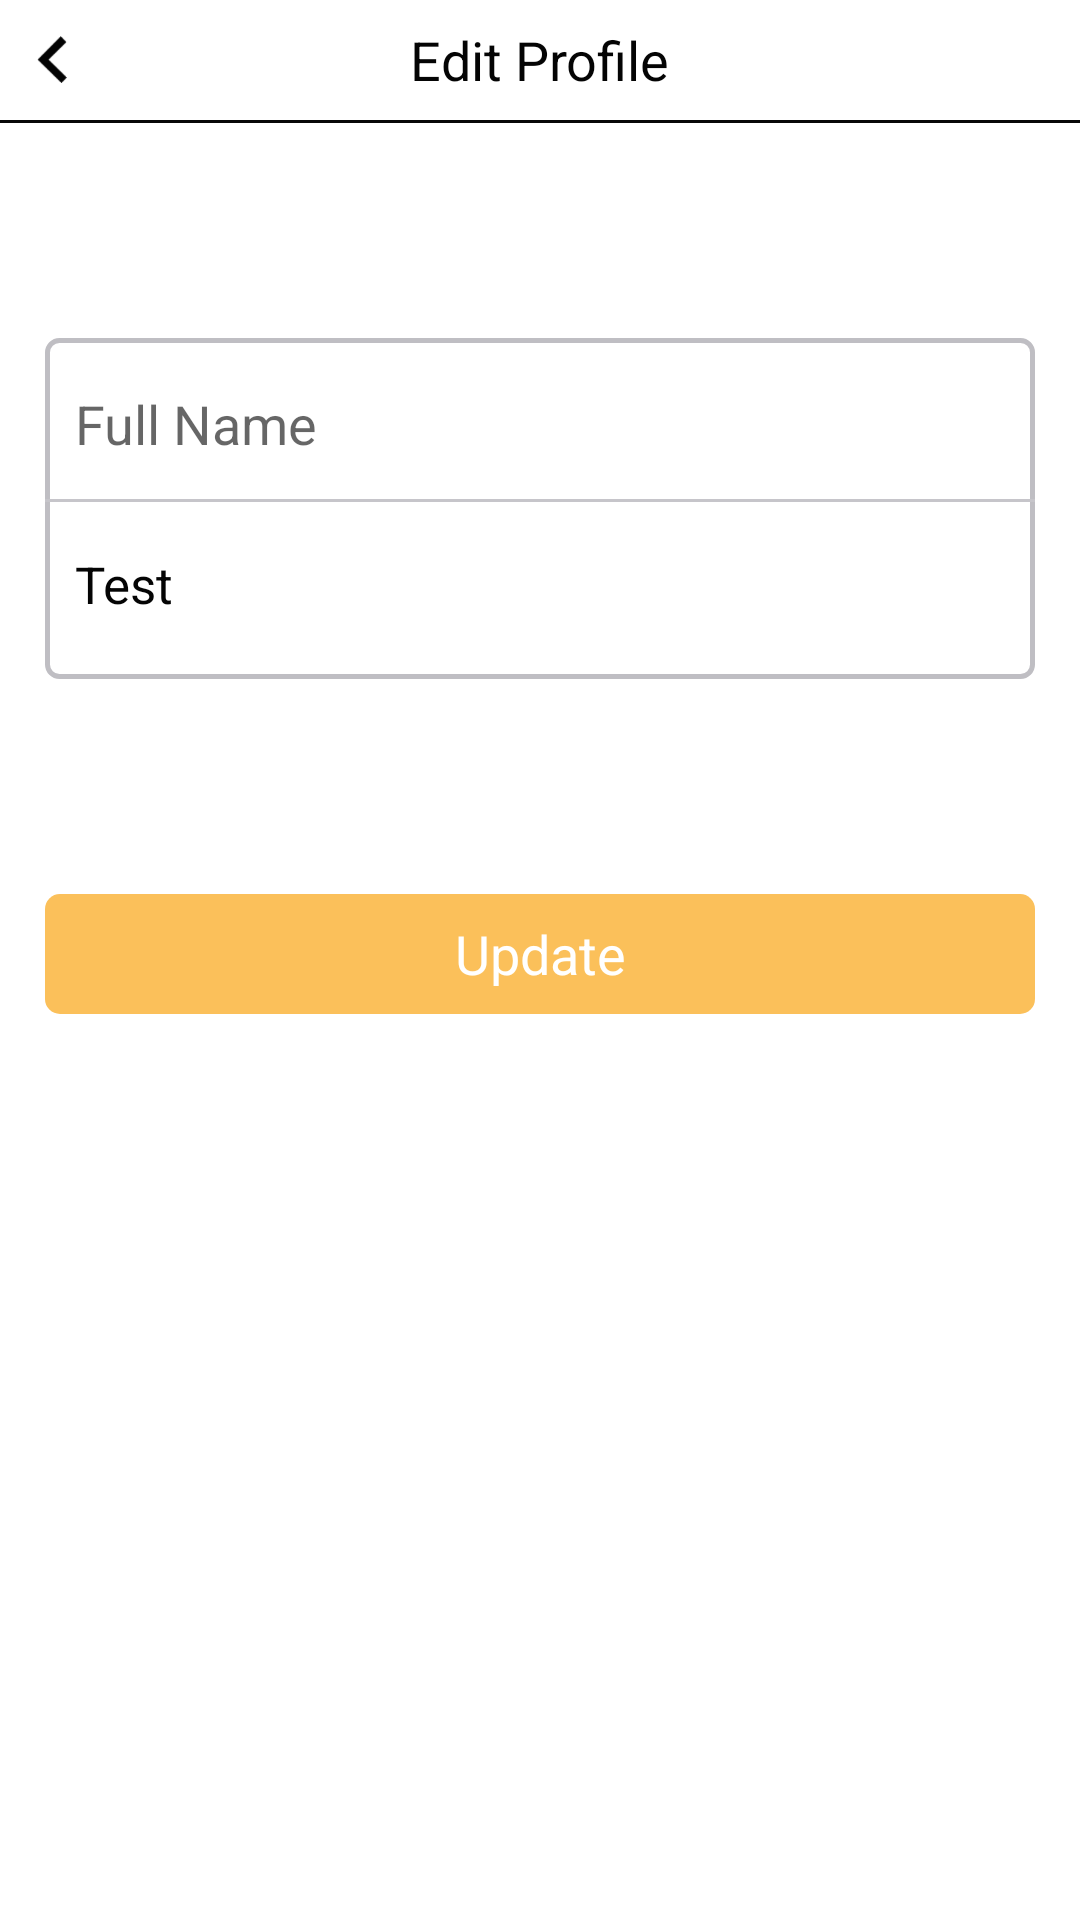

Icon bounding boxes for this 1080 x 1920 phone screenshot, format (x1, y1, x2, y2):
back arrow: (37, 36, 67, 83)
